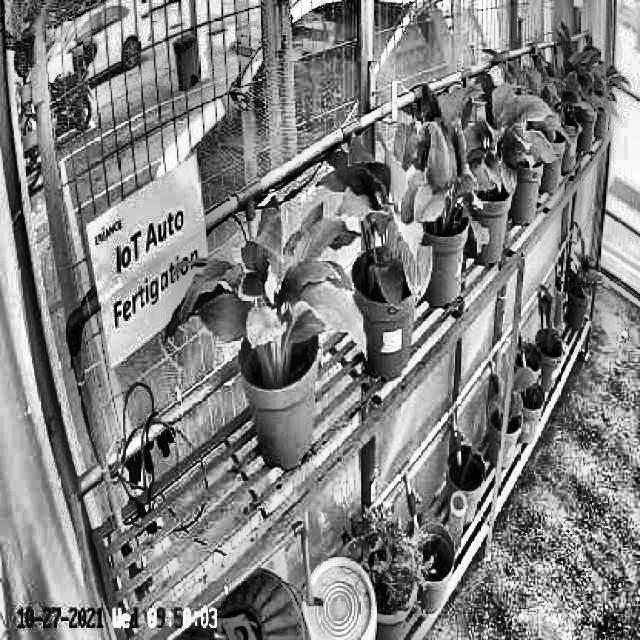plants: (164, 198, 366, 380), (337, 150, 435, 308), (396, 99, 490, 259), (432, 73, 554, 189)
